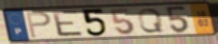5: (80, 7, 110, 38), (108, 7, 136, 36), (165, 4, 191, 35)
E: (50, 9, 85, 38)
P: (25, 11, 53, 39)
Q: (137, 7, 166, 34)
